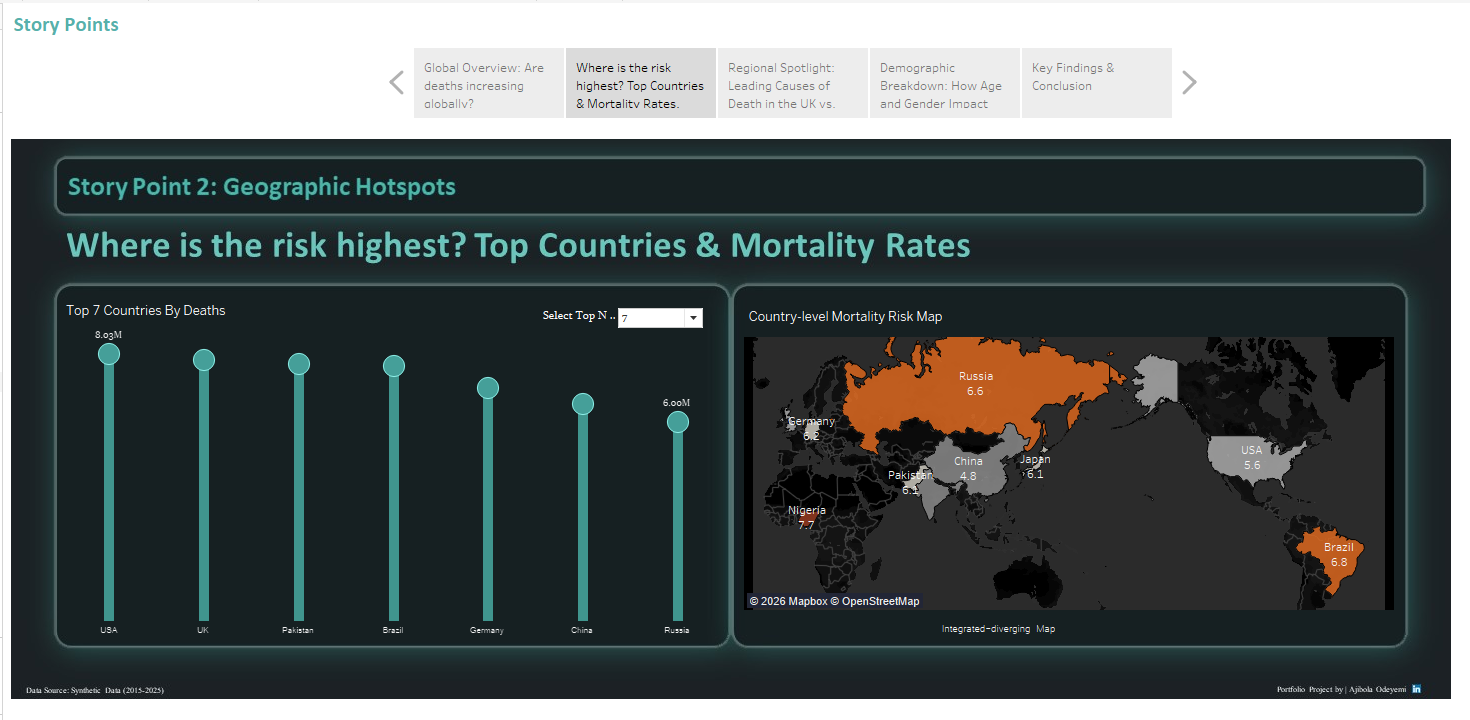

This screenshot's page, from the dashboard's own definition file:
{"tool":"tableau","page":{"name":"Dashboard 3","canvas":[1440,560],"ordinal":2},"visuals":[{"type":"image","param":"C:/Users/USER/Documents/death cause tableau/story point 2.jpg","box":[0,1,1440,560]},{"type":"worksheet","title":"Sheet 1 (5)","mark":"Automatic","rows":["Number_of_Deaths","Number_of_Deaths"],"cols":["Country"],"box":[51,160,663,343]},{"type":"text","box":[735,163,307,30]},{"type":"parameter","param":"[Parameters].[Parameter 1]","box":[532,167,163,34]},{"type":"worksheet","title":"Sheet 1 (7)","mark":"Automatic","box":[733,199,650,273]},{"type":"text","box":[928,474,183,30]}]}

Visuals, with their boxes on the page's 1440x560 design canvas (x1, y1, x2, y2). These are canvas units, not pixel positions in the 1470x720 screenshot, which may show the page scaled, cropped or inside an application window:
image: left=0, top=1, right=1440, bottom=561
"Sheet 1 (5)" worksheet: left=51, top=160, right=714, bottom=503
text: left=735, top=163, right=1042, bottom=193
parameter: left=532, top=167, right=695, bottom=201
"Sheet 1 (7)" worksheet: left=733, top=199, right=1383, bottom=472
text: left=928, top=474, right=1111, bottom=504
